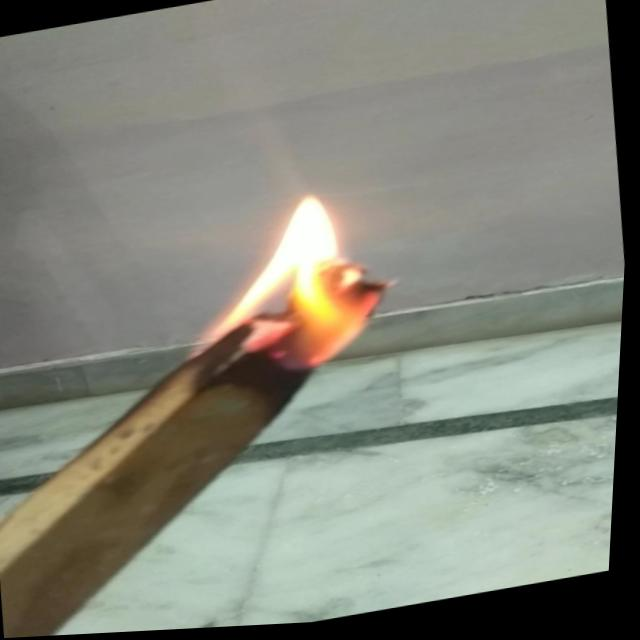fire: (161, 178, 410, 404)
